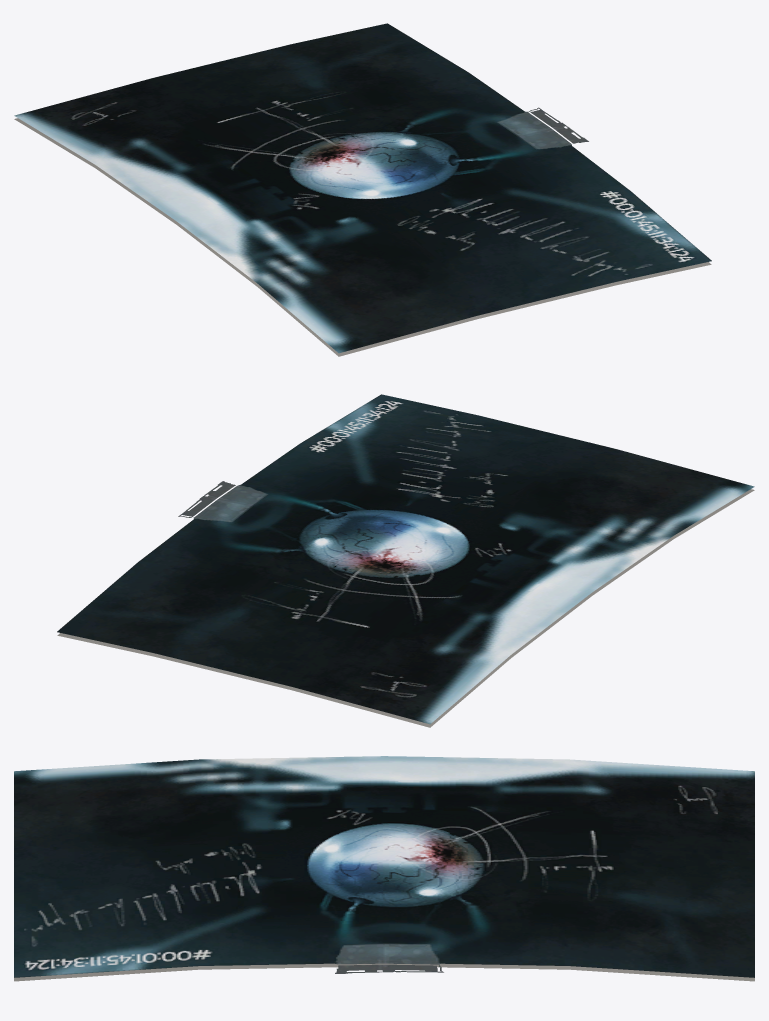
The model's file is 04_02_ross_photos01.dae.
3 views of the same model, one above another, from view 1: azimuth 30°, elevation 25°; view 2: azimuth 150°, elevation 25°; view 3: azimuth 270°, elevation 25° (orthographic). The views are drawn at different scales.
Parts seen in each view (by area): view 1: photograph_world01; view 2: photograph_world01; view 3: photograph_world01.
Part boxes in pixels (box(x1,y1,x2,y2)): photograph_world01: box(14, 23, 711, 356); photograph_world01: box(57, 394, 754, 727); photograph_world01: box(14, 756, 754, 981).
Size of the model in its own units: 0.2289 by 0.0108 by 0.3093.
